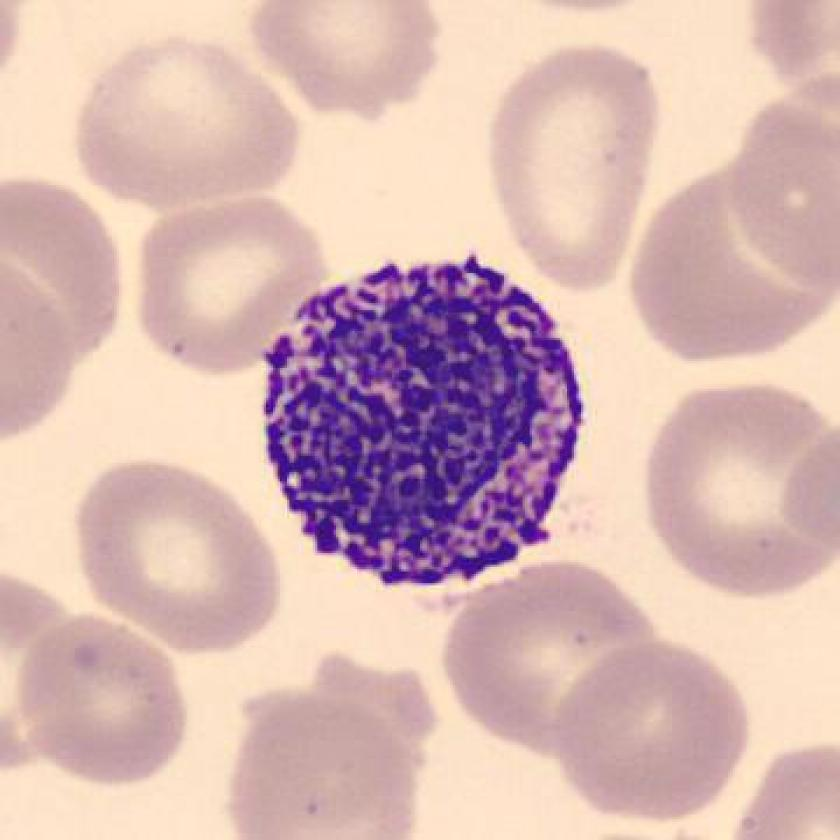basophil: (246, 251, 580, 598)
